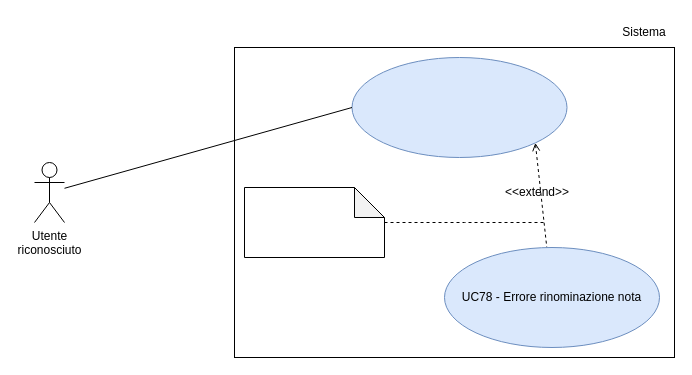
Some shapes in this 692 by 375 pixel diagram are drawn without their labels. The centre of each missing label's shape, as x and y in pixels:
"Condizione Il sistema non riesce a rinominare la nota" belongs at point 314,222.
"UC77 - Rinominazione nota nel database" belongs at point 459,107.
